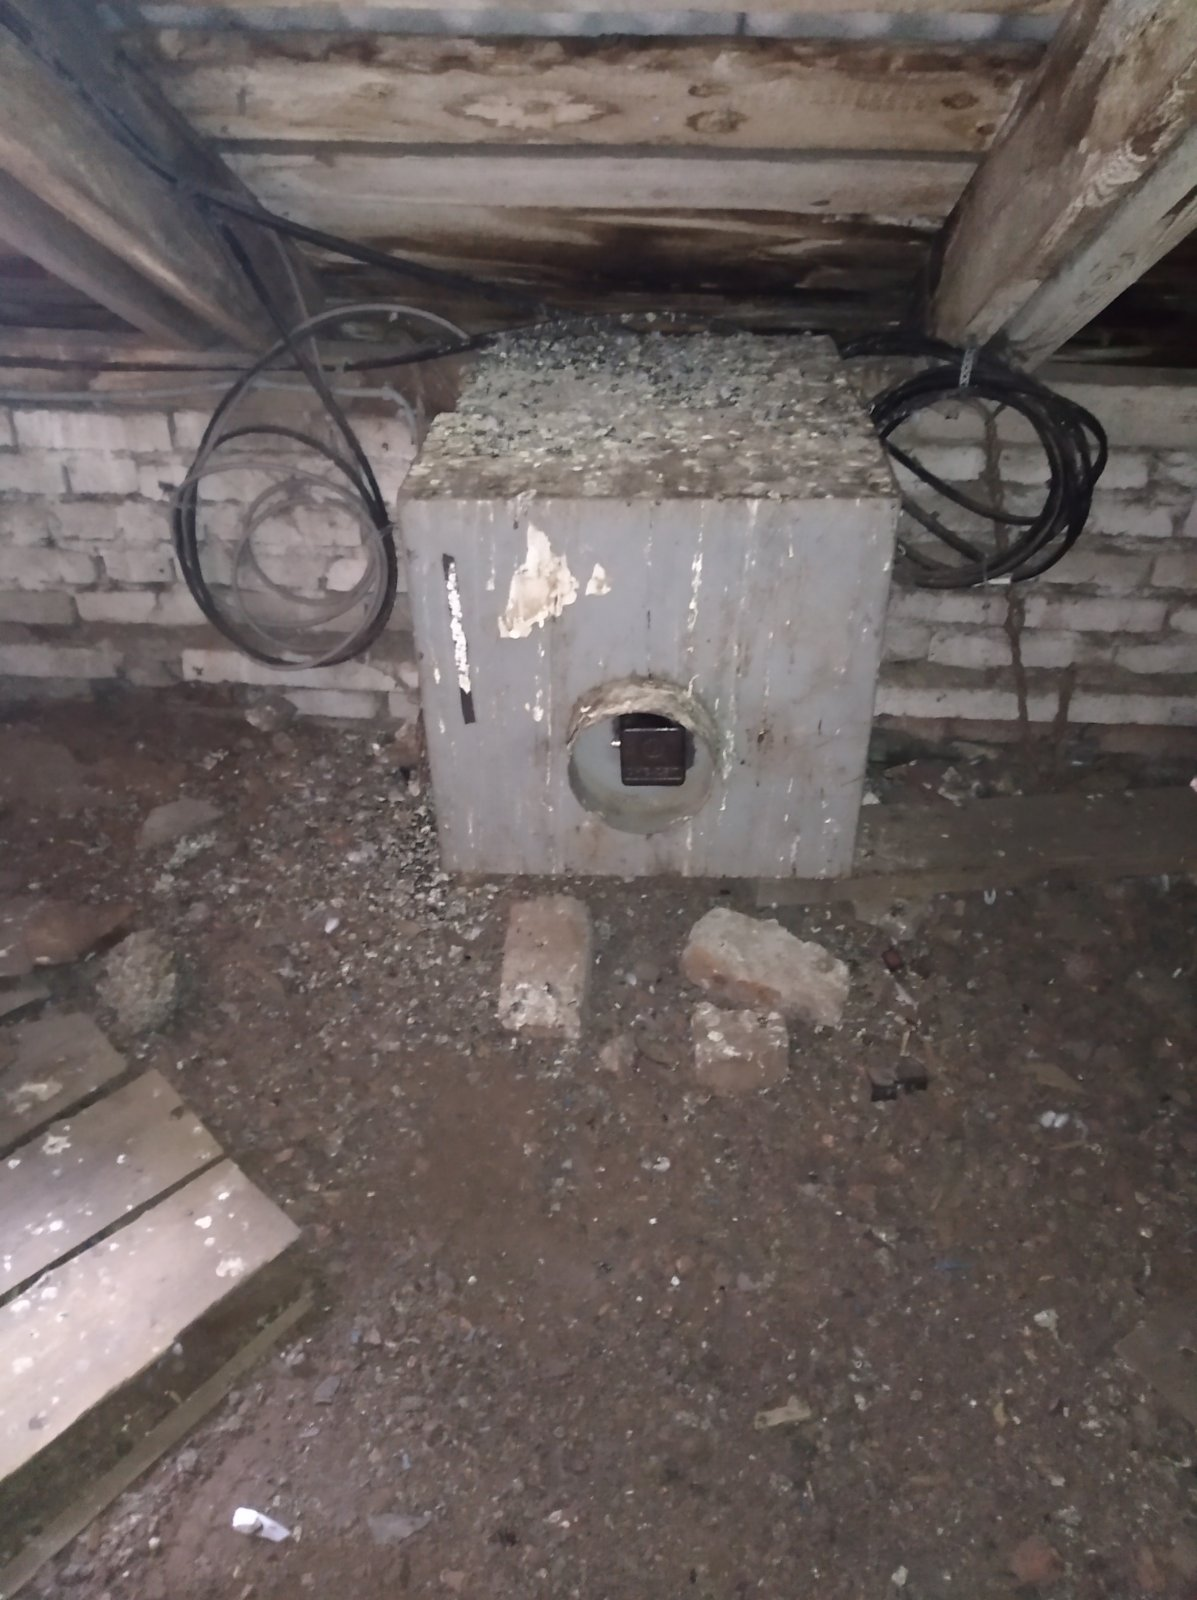shta-9: (373, 309, 920, 894)
